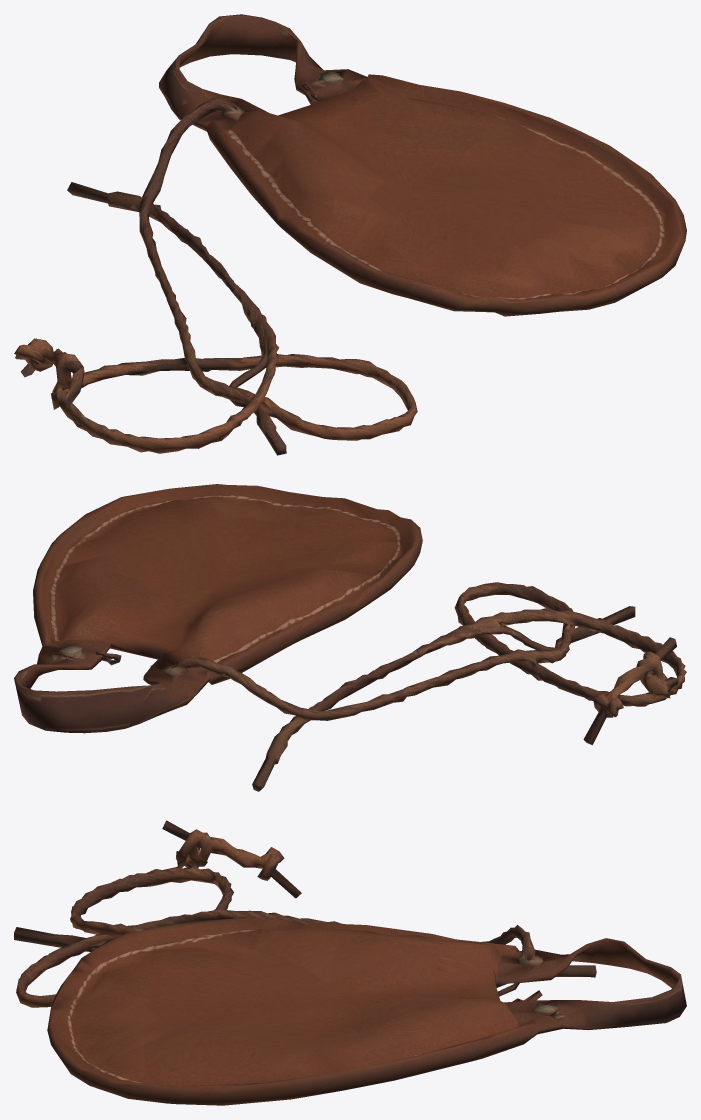
Rendered from SM_Sling.fbx.
3 views of the same model, one above another, from view 1: azimuth 30°, elevation 25°; view 2: azimuth 150°, elevation 25°; view 3: azimuth 270°, elevation 25° (orthographic). The views are drawn at different scales.
Parts seen in each view (by area): view 1: Sling; view 2: Sling; view 3: Sling.
Part boxes in pixels (x1=…): Sling: x1=14, y1=14, x2=686, y2=455; Sling: x1=14, y1=484, x2=686, y2=791; Sling: x1=14, y1=820, x2=686, y2=1105.
Size of the model in its own units: 95 by 17.5 by 94.8.
1 material, 1 textured.
